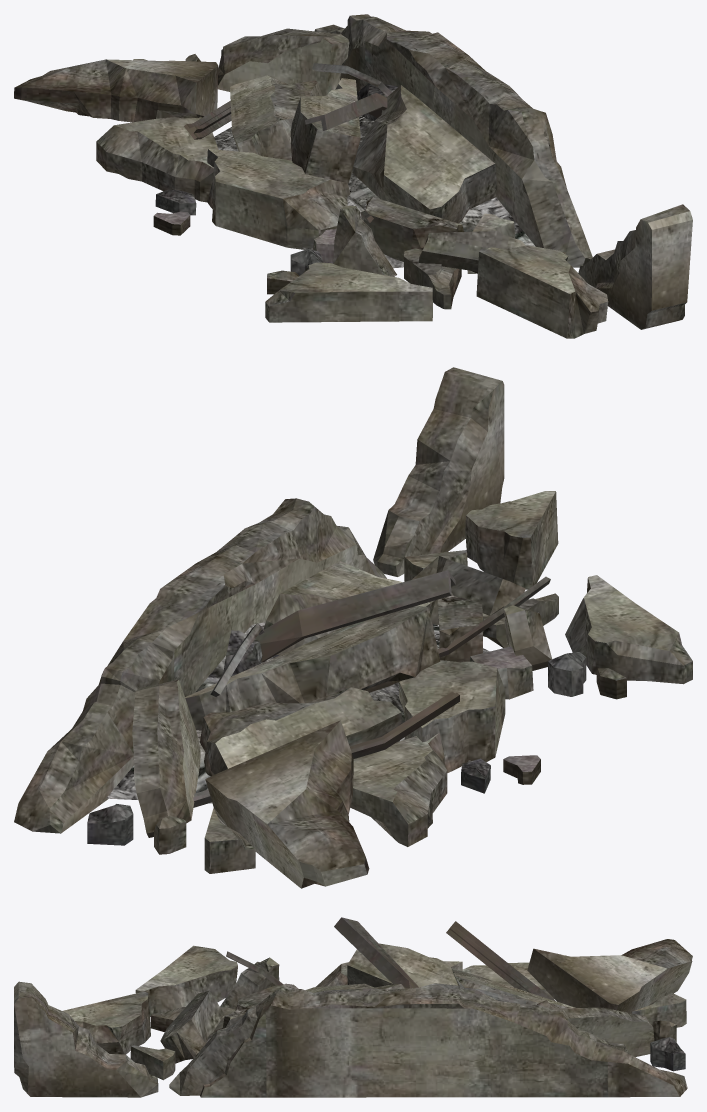
Rendered from concrete_debris256barricade001a.glb.
3 views of the same model, one above another, from view 1: azimuth 30°, elevation 25°; view 2: azimuth 150°, elevation 25°; view 3: azimuth 270°, elevation 25° (orthographic). The views are drawn at different scales.
Visible parts, largest first — view 1: 0_composite_debris, 1_concretefloor020a; view 2: 0_composite_debris, 1_concretefloor020a; view 3: 0_composite_debris.
Boxes of the visible parts, <box> form: 0_composite_debris: <box>14,14,692,338</box>; 1_concretefloor020a: <box>214,116,535,268</box>; 0_composite_debris: <box>14,367,692,888</box>; 1_concretefloor020a: <box>106,622,489,803</box>; 0_composite_debris: <box>14,917,692,1097</box>.
Bounding box in the file's own units: 3.01 × 1.1 × 6.46.
2 materials, 2 textured.
